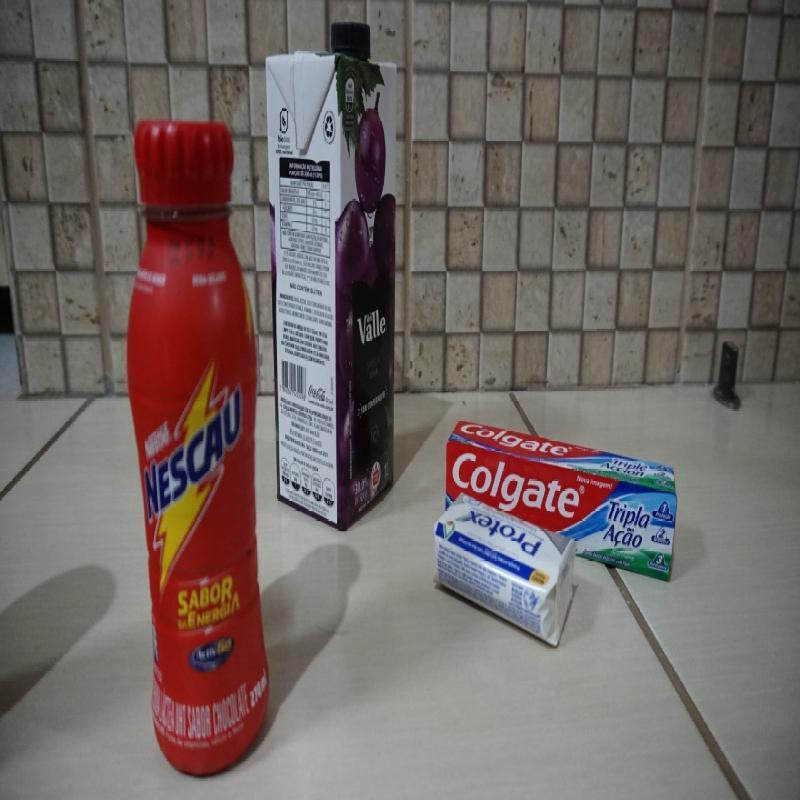Chocolate Milk: (121, 114, 272, 782), (124, 118, 274, 779)
Soap: (433, 491, 578, 650), (432, 504, 578, 636)
Toothpaste: (445, 420, 680, 586), (445, 426, 677, 594)
